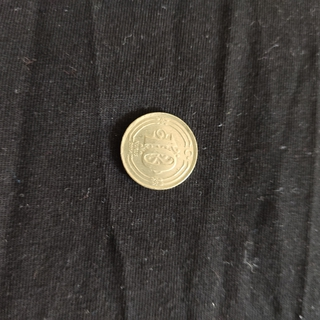10KURUS: (118, 109, 200, 191)
